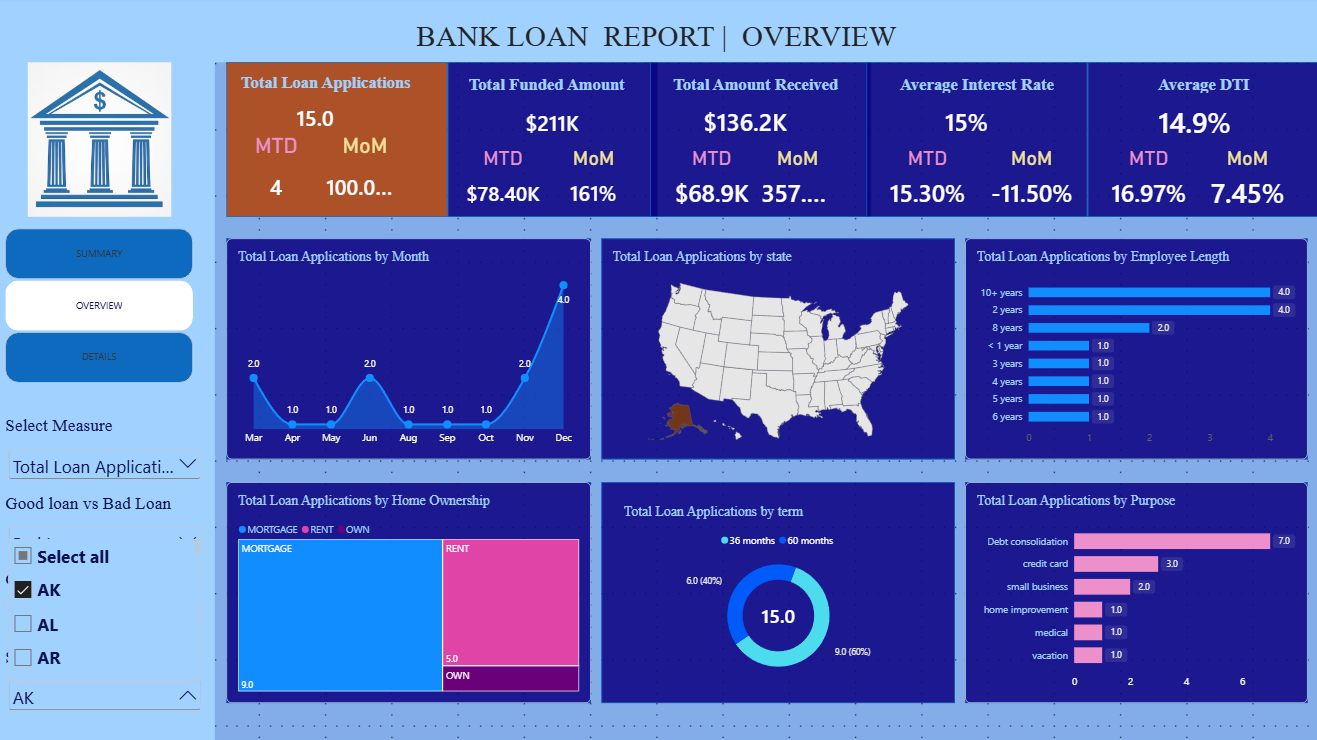

Layout of this report page (visuals, bound fields, positions):
{"tool":"powerbi","page":{"name":"OVERVIEW","canvas":[1920,1080],"ordinal":1},"visuals":[{"type":"shape","box":[0,88,320,992],"z":0},{"type":"shape","box":[336,96,320,224],"z":0,"group":"g1"},{"type":"shape","box":[656,96,304,224],"z":0,"group":"g6"},{"type":"shape","box":[951.6,96,320,224],"z":0,"group":"g3"},{"type":"shape","box":[1264,96,320,224],"z":0,"group":"g4"},{"type":"shape","box":[1584,96,336,224],"z":0,"group":"g5"},{"type":"shape","box":[880,704,512,320],"z":0,"group":"g7"},{"type":"shape","box":[0,0,1920,96],"z":1000},{"type":"textbox","box":[624,113.2,352,34.5],"z":1000,"group":"g6"},{"type":"cardVisual","fields":{"Data":["bank_loan_data.Total Loan Applications"]},"box":[350.5,127.8,228.6,95.4],"z":1000,"group":"g1"},{"type":"cardVisual","fields":{"Data":["bank_loan_data.Total Aount Received"]},"box":[974.5,130.5,228.6,103.4],"z":1000,"group":"g3"},{"type":"cardVisual","fields":{"Data":["bank_loan_data.Average Interest Rate"]},"box":[1294.5,130.5,228.6,103.4],"z":1000,"group":"g4"},{"type":"cardVisual","fields":{"Data":["bank_loan_data.Average DTI"]},"box":[1616,130.5,240,103.4],"z":1000,"group":"g5"},{"type":"donutChart","fields":{"Category":["bank_loan_data.term"],"Y":["bank_loan_data.Total Loan Applications"]},"box":[896,720,480,288],"z":1000,"group":"g7"},{"type":"textbox","box":[0,32,1920,64],"z":2000},{"type":"textbox","box":[320,111.9,320,31.8],"z":2000,"group":"g1"},{"type":"textbox","box":[944,113.2,320,34.5],"z":2000,"group":"g3"},{"type":"textbox","box":[1264,113.2,320,34.5],"z":2000,"group":"g4"},{"type":"textbox","box":[1584,113.2,336,34.5],"z":2000,"group":"g5"},{"type":"cardVisual","title":"MoM","fields":{"Data":["bank_loan_data.MoM Total Funded Amount"]},"box":[791.6,216.6,150.9,86.2],"z":2000,"group":"g6"},{"type":"group","id":"g1","title":"Group 1","box":[320,96,336,224],"z":3000},{"type":"cardVisual","fields":{"Data":["bank_loan_data.Total Funded Amount"]},"box":[720,147.7,176,68.9],"z":3000,"group":"g6"},{"type":"cardVisual","title":"MTD","fields":{"Data":["bank_loan_data.MTD Loan Applications"]},"box":[336,199.4,144,103.4],"z":3000,"group":"g1"},{"type":"cardVisual","title":"MTD","fields":{"Data":["bank_loan_data.MTD Total Amount Received"]},"box":[960,216.6,160,86.2],"z":3000,"group":"g3"},{"type":"cardVisual","title":"MTD","fields":{"Data":["bank_loan_data.MTD Average Interest Rate"]},"box":[1280,216.6,144,86.2],"z":3000,"group":"g4"},{"type":"cardVisual","title":"MTD","fields":{"Data":["bank_loan_data.MTD Average DTI"]},"box":[1600,216.6,144,86.2],"z":3000,"group":"g5"},{"type":"group","id":"g2","title":"Group 1","box":[624,96,352,224],"z":4000},{"type":"cardVisual","title":"MoM","fields":{"Data":["bank_loan_data.MoM Loan Applications"]},"box":[464,199.4,144,103.4],"z":4000,"group":"g1"},{"type":"cardVisual","title":"MTD","fields":{"Data":["bank_loan_data.MTD Funded Amount"]},"box":[656,216.6,160,86.2],"z":4000,"group":"g6"},{"type":"cardVisual","title":"MoM","fields":{"Data":["bank_loan_data.Mom Loan Received"]},"box":[1096.4,216.6,137.1,86.2],"z":4000,"group":"g3"},{"type":"cardVisual","title":"MoM","fields":{"Data":["bank_loan_data.MoM Avg Int Rate"]},"box":[1424,216.6,160,86.2],"z":4000,"group":"g4"},{"type":"cardVisual","title":"MoM","fields":{"Data":["bank_loan_data.MoM Average DTI"]},"box":[1744,216.6,144,86.2],"z":4000,"group":"g5"},{"type":"shape","box":[336,352,528,320],"z":5000},{"type":"group","id":"g3","title":"Group 1","box":[944,96,320,224],"z":6000},{"type":"group","id":"g4","title":"Group 1","box":[1264,96,320,224],"z":7000},{"type":"group","id":"g5","title":"Group 1","box":[1584,96,336,224],"z":8000},{"type":"slicer","title":"Good loan vs Bad Loan","fields":{"Values":["bank_loan_data.Good vs Bad Loan"]},"box":[16,720,288,96],"z":9000},{"type":"slicer","title":"Grade","fields":{"Values":["bank_loan_data.grade"]},"box":[16,832,288,96],"z":10000},{"type":"slicer","title":"State","fields":{"Values":["bank_loan_data.address_state"]},"box":[16,944,288,112],"z":11000},{"type":"group","id":"g6","title":"Group 2","box":[624,96,352,224],"z":11001,"group":"g2"},{"type":"areaChart","fields":{"Category":["DateTable.Month"],"Y":["bank_loan_data.Total Loan Applications"]},"box":[336,352,528,320],"z":12000},{"type":"slicer","title":"Select Measure","fields":{"Values":["Select Measure.Select Measure"]},"box":[16,608,288,96],"z":13000},{"type":"shape","box":[880,352,512,320],"z":14000},{"type":"shape","box":[336,704,528,320],"z":15000},{"type":"shapeMap","fields":{"Category":["bank_loan_data.address_state"],"Value":["bank_loan_data.Total Loan Applications"]},"box":[880,352,512,320],"z":16000},{"type":"shape","box":[1408,704,496,320],"z":17000},{"type":"shape","box":[1408,352,496,320],"z":18000},{"type":"group","id":"g7","title":"Group 3","box":[880,704,512,320],"z":19000},{"type":"barChart","fields":{"Category":["bank_loan_data.emp_length"],"Y":["bank_loan_data.Total Loan Applications"]},"box":[1408,352,496,320],"z":20000},{"type":"barChart","fields":{"Category":["bank_loan_data.purpose"],"Y":["bank_loan_data.Total Loan Applications"]},"box":[1408,704,496,320],"z":21000},{"type":"treemap","fields":{"Group":["bank_loan_data.home_ownership"],"Values":["bank_loan_data.Total Loan Applications"]},"box":[336,704,528,320],"z":22000},{"type":"image","box":[48,96,208,224],"z":23000},{"type":"pageNavigator","box":[16,336,272,224],"z":24000}]}

Visuals, with their boxes on the page's 1920x1080 design canvas (x1, y1, x2, y2). These are canvas units, not pixel positions in the 1317x740 screenshot, which may show the page scaled, cropped or inside an application window:
shape: rect(0, 88, 320, 1080)
shape: rect(336, 96, 656, 320)
shape: rect(656, 96, 960, 320)
shape: rect(952, 96, 1272, 320)
shape: rect(1264, 96, 1584, 320)
shape: rect(1584, 96, 1920, 320)
shape: rect(880, 704, 1392, 1024)
shape: rect(0, 0, 1920, 96)
textbox: rect(624, 113, 976, 148)
cardVisual - bank_loan_data.Total Loan Applications: rect(350, 128, 579, 223)
cardVisual - bank_loan_data.Total Aount Received: rect(974, 130, 1203, 234)
cardVisual - bank_loan_data.Average Interest Rate: rect(1294, 130, 1523, 234)
cardVisual - bank_loan_data.Average DTI: rect(1616, 130, 1856, 234)
donutChart - bank_loan_data.term x bank_loan_data.Total Loan Applications: rect(896, 720, 1376, 1008)
textbox: rect(0, 32, 1920, 96)
textbox: rect(320, 112, 640, 144)
textbox: rect(944, 113, 1264, 148)
textbox: rect(1264, 113, 1584, 148)
textbox: rect(1584, 113, 1920, 148)
"MoM" cardVisual: rect(792, 217, 942, 303)
"Group 1" group: rect(320, 96, 656, 320)
cardVisual - bank_loan_data.Total Funded Amount: rect(720, 148, 896, 217)
"MTD" cardVisual: rect(336, 199, 480, 303)
"MTD" cardVisual: rect(960, 217, 1120, 303)
"MTD" cardVisual: rect(1280, 217, 1424, 303)
"MTD" cardVisual: rect(1600, 217, 1744, 303)
"Group 1" group: rect(624, 96, 976, 320)
"MoM" cardVisual: rect(464, 199, 608, 303)
"MTD" cardVisual: rect(656, 217, 816, 303)
"MoM" cardVisual: rect(1096, 217, 1234, 303)
"MoM" cardVisual: rect(1424, 217, 1584, 303)
"MoM" cardVisual: rect(1744, 217, 1888, 303)
shape: rect(336, 352, 864, 672)
"Group 1" group: rect(944, 96, 1264, 320)
"Group 1" group: rect(1264, 96, 1584, 320)
"Group 1" group: rect(1584, 96, 1920, 320)
"Good loan vs Bad Loan" slicer: rect(16, 720, 304, 816)
"Grade" slicer: rect(16, 832, 304, 928)
"State" slicer: rect(16, 944, 304, 1056)
"Group 2" group: rect(624, 96, 976, 320)
areaChart - DateTable.Month x bank_loan_data.Total Loan Applications: rect(336, 352, 864, 672)
"Select Measure" slicer: rect(16, 608, 304, 704)
shape: rect(880, 352, 1392, 672)
shape: rect(336, 704, 864, 1024)
shapeMap - bank_loan_data.address_state x bank_loan_data.Total Loan Applications: rect(880, 352, 1392, 672)
shape: rect(1408, 704, 1904, 1024)
shape: rect(1408, 352, 1904, 672)
"Group 3" group: rect(880, 704, 1392, 1024)
barChart - bank_loan_data.emp_length x bank_loan_data.Total Loan Applications: rect(1408, 352, 1904, 672)
barChart - bank_loan_data.purpose x bank_loan_data.Total Loan Applications: rect(1408, 704, 1904, 1024)
treemap - bank_loan_data.home_ownership x bank_loan_data.Total Loan Applications: rect(336, 704, 864, 1024)
image: rect(48, 96, 256, 320)
pageNavigator: rect(16, 336, 288, 560)
